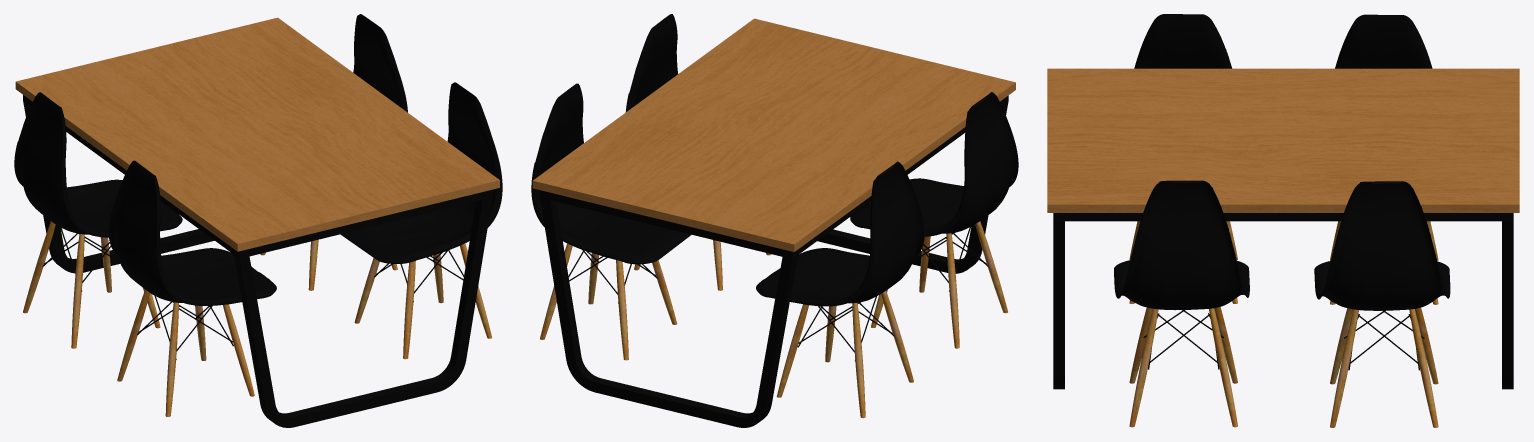
Rendered from mesaecadeiras001.glb.
3 views of the same model, side by side, from view 1: azimuth 30°, elevation 25°; view 2: azimuth 150°, elevation 25°; view 3: azimuth 270°, elevation 25° (orthographic). The views are drawn at different scales.
Parts seen in each view (by area): view 1: Tabua\Sólido, Cadeira 2\Sólido.001, Cadeira 2\Sólido, Pernas\Sólido2 (2), Suporte\Sólido (3), Pernas\Sólido2, Pattern (Padrão)\Componente1\Sólido (2).001, Pattern (Padrão)\Componente1\Sólido.001, Pattern (Padrão)\Componente1\Sólido (4).001, Suporte\Sólido (2), Pattern (Padrão)\Componente1\Sólido, Pattern (Padrão)\Componente1\Sólido (3).001 (+2 smaller); view 2: Tabua\Sólido, Cadeira 2\Sólido, Cadeira 2\Sólido.001, Pernas\Sólido2, Suporte\Sólido (4), Pernas\Sólido2 (2), Pattern (Padrão)\Componente1\Sólido (3), Pattern (Padrão)\Componente1\Sólido (4), Pattern (Padrão)\Componente1\Sólido, Suporte\Sólido (2), Pattern (Padrão)\Componente1\Sólido (4).001, Pattern (Padrão)\Componente1\Sólido (2) (+2 smaller); view 3: Tabua\Sólido, Cadeira 2\Sólido.001, Cadeira 2\Sólido, Suporte\Sólido, Pernas\Sólido2, Pernas\Sólido2 (2), Pattern (Padrão)\Componente1\Sólido (4), Pattern (Padrão)\Componente1\Sólido (4).001, Pattern (Padrão)\Componente1\Sólido.001, Pattern (Padrão)\Componente1\Sólido, Pattern (Padrão)\Componente1\Sólido (3), Pattern (Padrão)\Componente1\Sólido (3).001 (+2 smaller).
Part boxes in pixels (x1,y1,x2,y2): Tabua\Sólido: (15, 17, 499, 251); Cadeira 2\Sólido.001: (108, 82, 502, 305); Cadeira 2\Sólido: (14, 14, 407, 237); Pernas\Sólido2 (2): (234, 197, 492, 427); Suporte\Sólido (3): (239, 189, 492, 258); Pernas\Sólido2: (23, 100, 214, 273); Pattern (Padrão)\Componente1\Sólido (2).001: (223, 260, 415, 396); Pattern (Padrão)\Componente1\Sólido.001: (165, 243, 492, 416); Pattern (Padrão)\Componente1\Sólido (4).001: (117, 253, 443, 381); Suporte\Sólido (2): (23, 95, 239, 258); Pattern (Padrão)\Componente1\Sólido: (71, 234, 397, 348); Pattern (Padrão)\Componente1\Sólido (3).001: (195, 258, 379, 360); Tabua\Sólido: (532, 18, 1015, 251); Cadeira 2\Sólido: (531, 83, 924, 306); Cadeira 2\Sólido.001: (625, 14, 1018, 236); Pernas\Sólido2: (540, 197, 797, 427); Suporte\Sólido (4): (540, 190, 792, 258); Pernas\Sólido2 (2): (817, 101, 1008, 273); Pattern (Padrão)\Componente1\Sólido (3): (616, 260, 808, 397); Pattern (Padrão)\Componente1\Sólido (4): (540, 243, 865, 418); Pattern (Padrão)\Componente1\Sólido: (588, 253, 913, 382); Suporte\Sólido (2): (792, 95, 1008, 258); Pattern (Padrão)\Componente1\Sólido (4).001: (634, 233, 959, 348); Pattern (Padrão)\Componente1\Sólido (2): (652, 260, 836, 362); Tabua\Sólido: (1047, 68, 1519, 212); Cadeira 2\Sólido.001: (1114, 14, 1249, 310); Cadeira 2\Sólido: (1314, 14, 1450, 310); Suporte\Sólido: (1053, 213, 1513, 221); Pernas\Sólido2: (1502, 221, 1513, 389); Pernas\Sólido2 (2): (1053, 221, 1064, 389); Pattern (Padrão)\Componente1\Sólido (4): (1409, 221, 1438, 427); Pattern (Padrão)\Componente1\Sólido (4).001: (1209, 221, 1237, 427); Pattern (Padrão)\Componente1\Sólido.001: (1129, 221, 1158, 427); Pattern (Padrão)\Componente1\Sólido: (1330, 221, 1358, 427); Pattern (Padrão)\Componente1\Sólido (3): (1415, 298, 1438, 384); Pattern (Padrão)\Componente1\Sólido (3).001: (1214, 298, 1237, 383).
Bounding box in the file's own units: 1.43 × 0.9278 × 1.58.
Materials: 5 (2 with a texture image).
